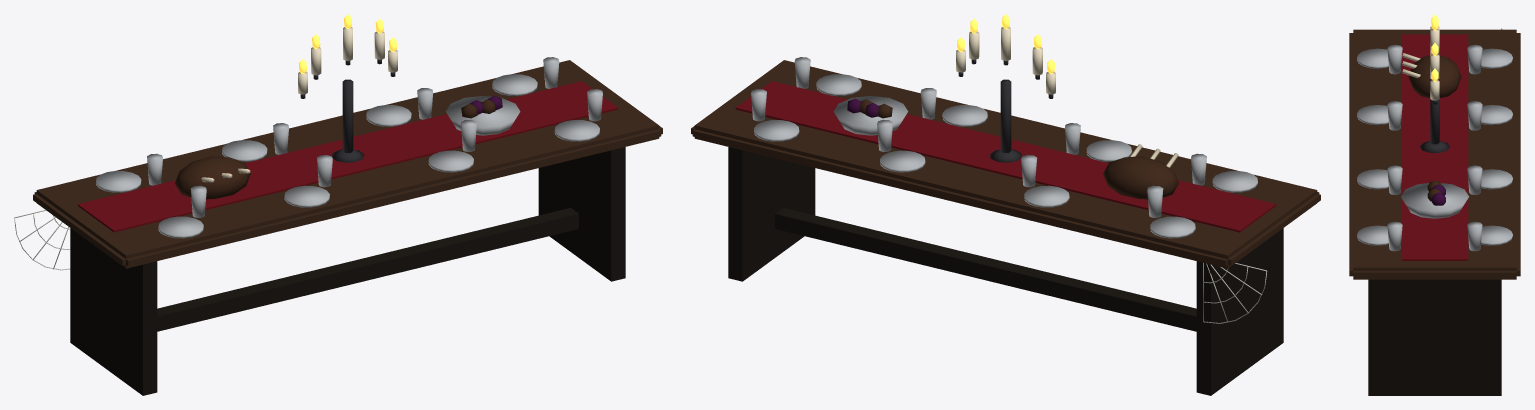
File: gothic-table.glb
The picture shows the model from 3 angles, left to right: view 1: azimuth 30°, elevation 25°; view 2: azimuth 150°, elevation 25°; view 3: azimuth 270°, elevation 25°; orthographic projection. The views are drawn at different scales.
Visible parts, largest first — view 1: Model Mesh; view 2: Model Mesh; view 3: Model Mesh.
Part boxes in pixels (box(x1,y1,x2,y2)): Model Mesh: box(14, 27, 662, 395); Model Mesh: box(691, 27, 1320, 395); Model Mesh: box(1349, 26, 1520, 395).
Bounding box in the file's own units: 3.15 × 1.57 × 0.9.
